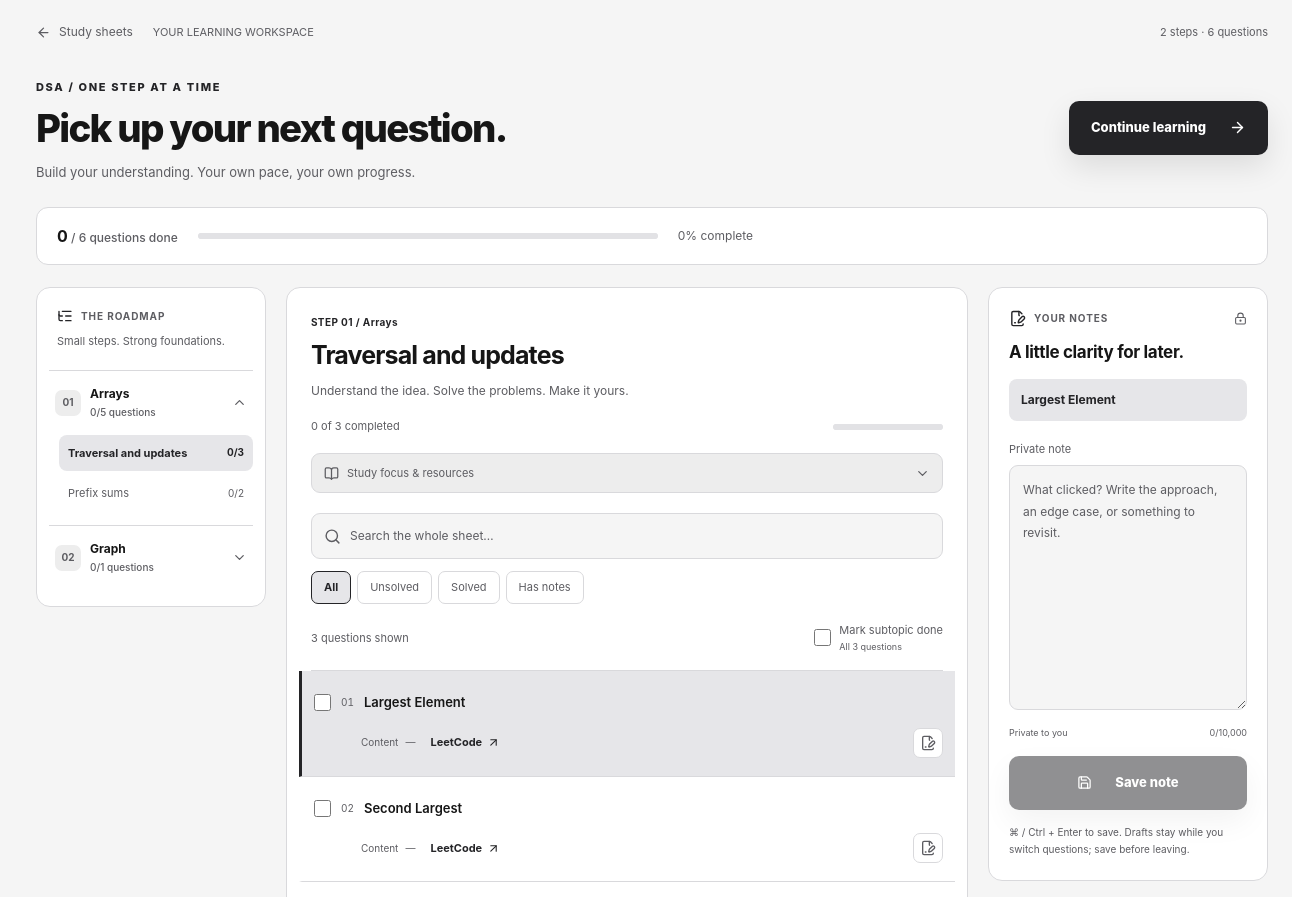
Test: Learning Workspace › keeps newer edits when an earlier save finishes after switching questions
This screenshot has width=1292, height=897.
expect the checkbox named "Mark Largest Element complete" is enabled: met, box [314,694,331,711]
Type "First draft." into the text box labelled "Private note" at (1128, 588), box [1009,465,1247,710]
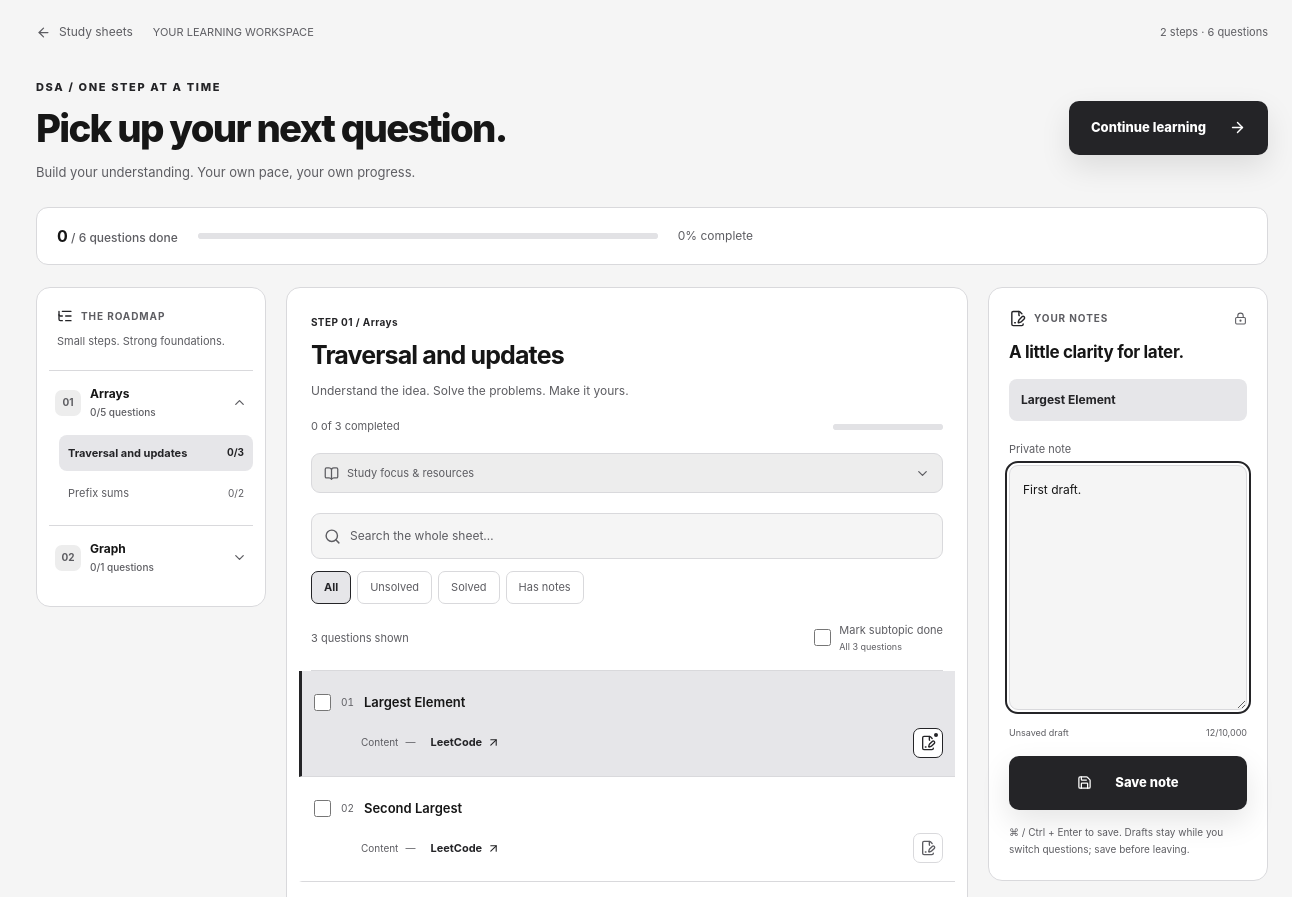
Click the button "Save note" at (1128, 783), box [1009,756,1247,810]
(page scrolled)
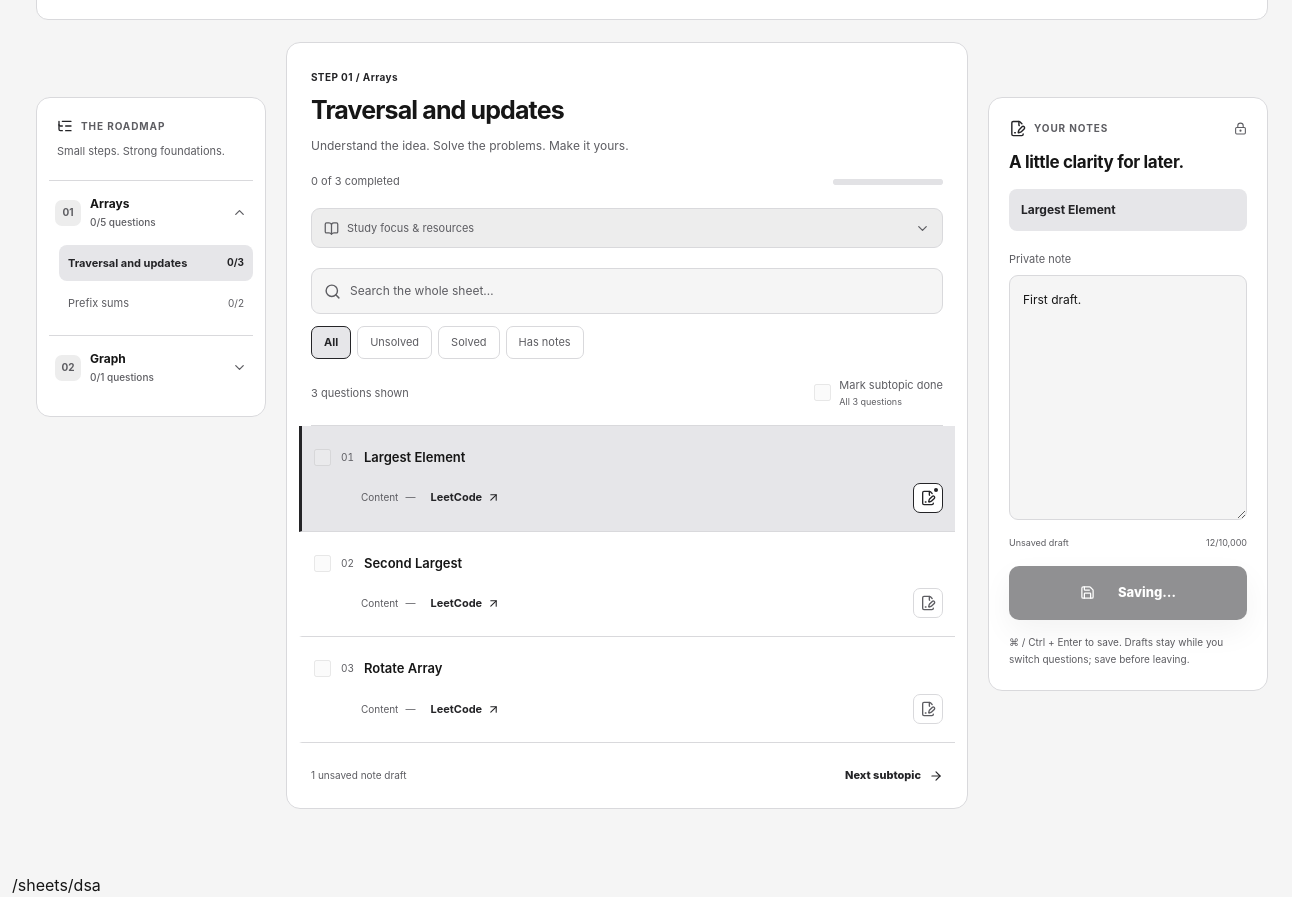
Click the button "Rotate Array" at (403, 668), box [364,656,943,682]
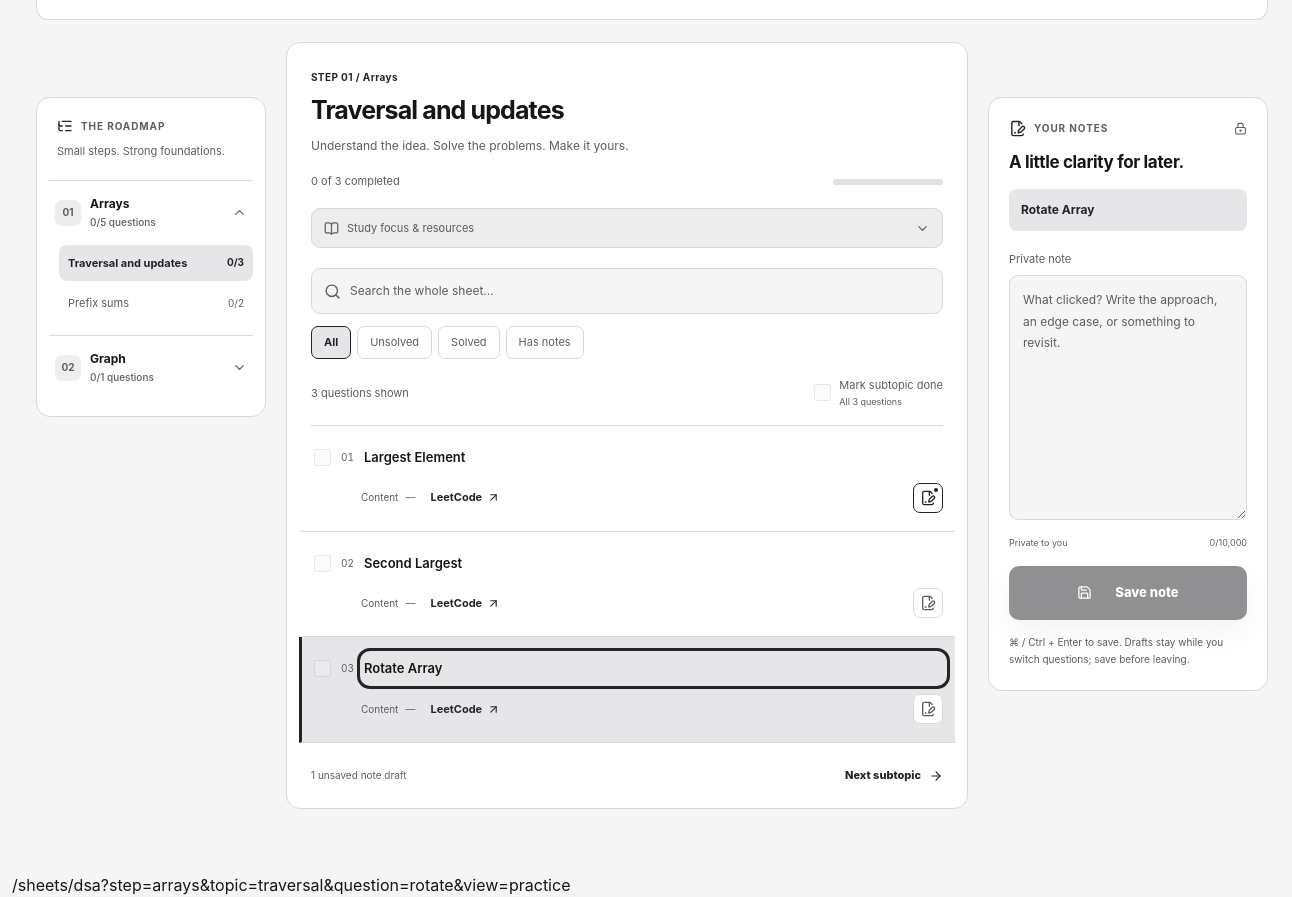
expect the text box labelled "Private note" is shown: met, box [1009,275,1247,520]
Click the button "Largest Element" at (415, 457), box [364,444,943,471]
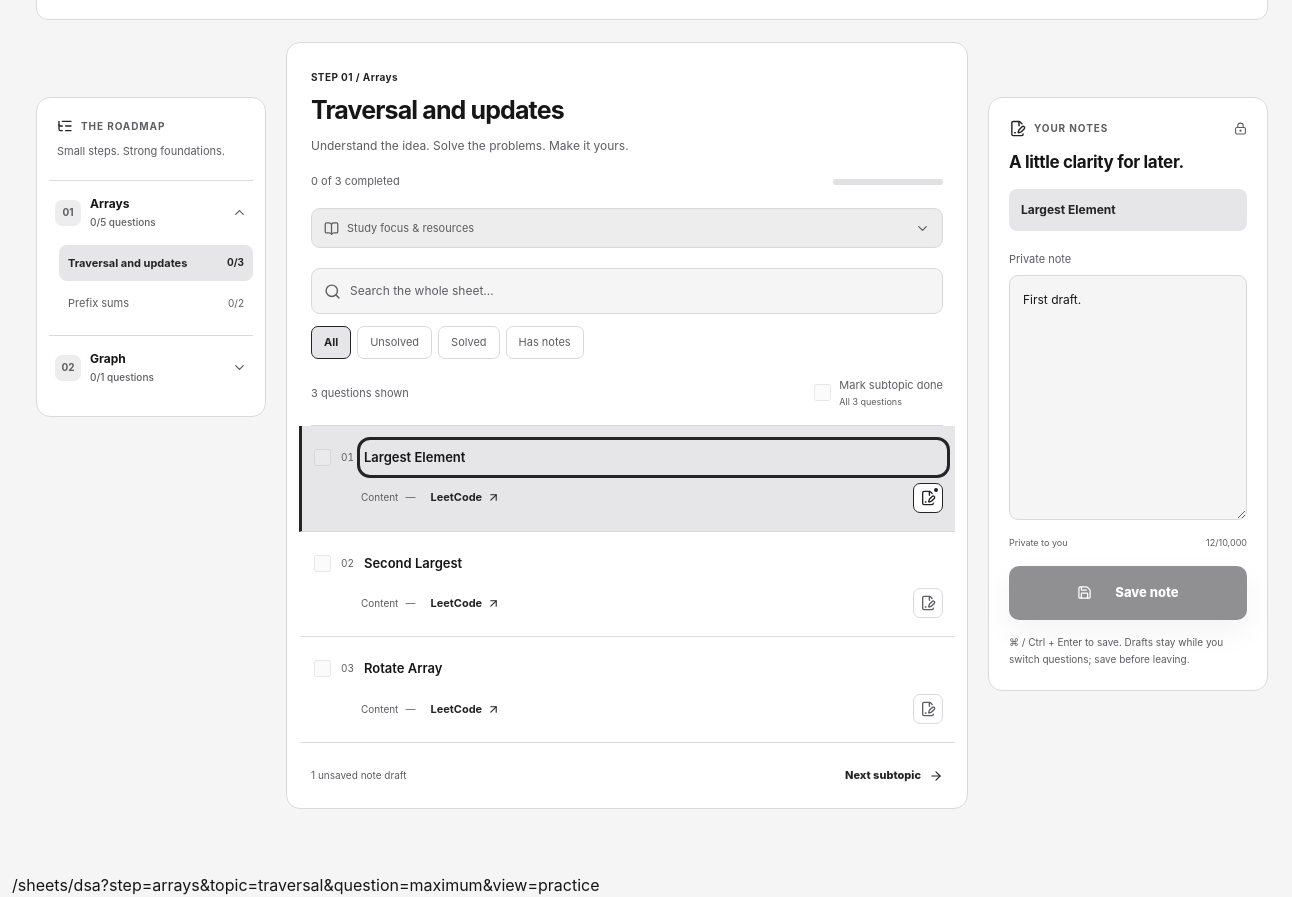
Type " More to remember." into the text box labelled "Private note" at (1128, 398), box [1009,275,1247,520]
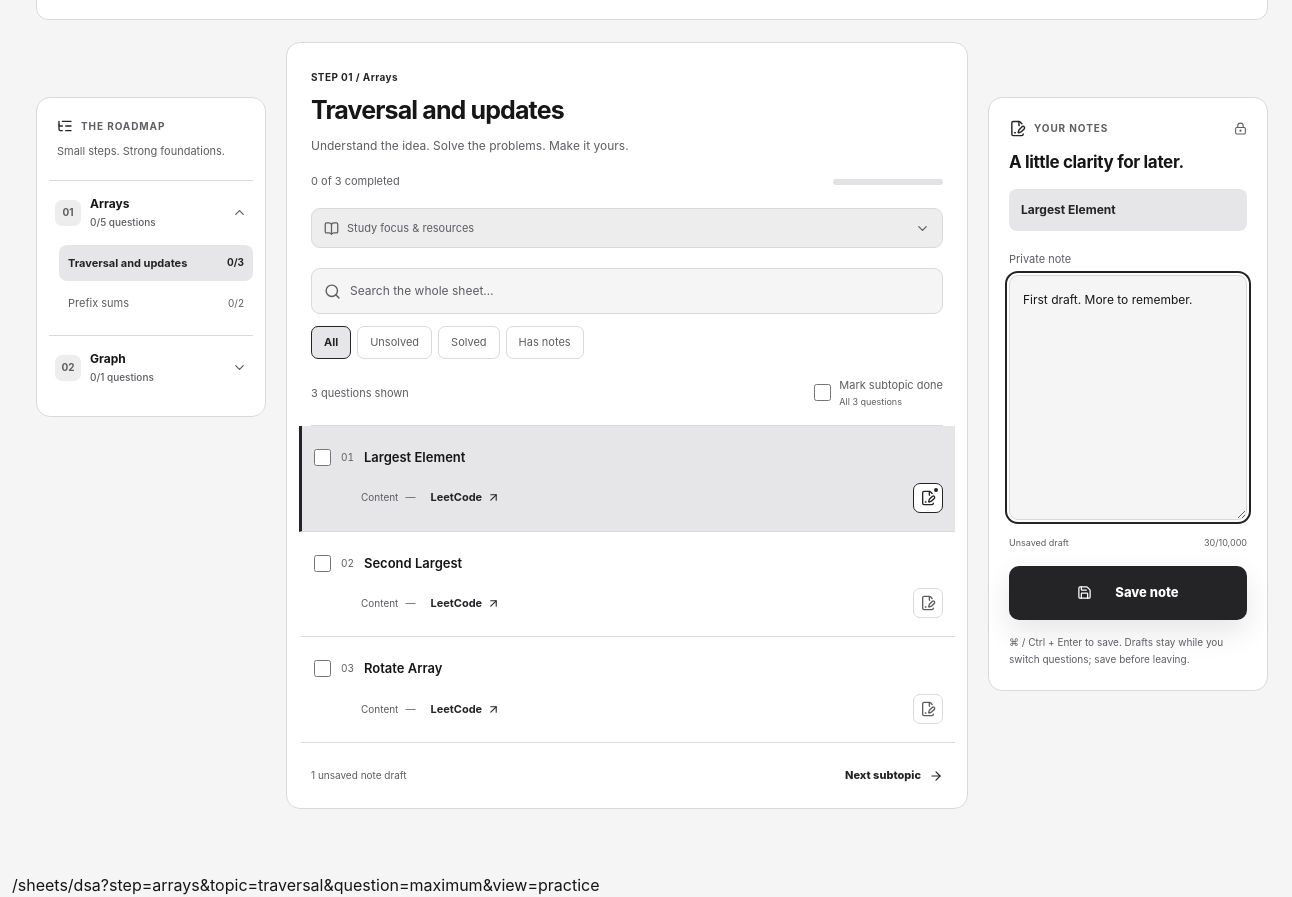
expect the button "Save note" is enabled: met, box [1009,566,1247,620]
expect the text box labelled "Private note" holds "First draft. More to remember.": met, box [1009,275,1247,520]
expect the text "Unsaved draft" is shown: met, box [1009,536,1069,550]
